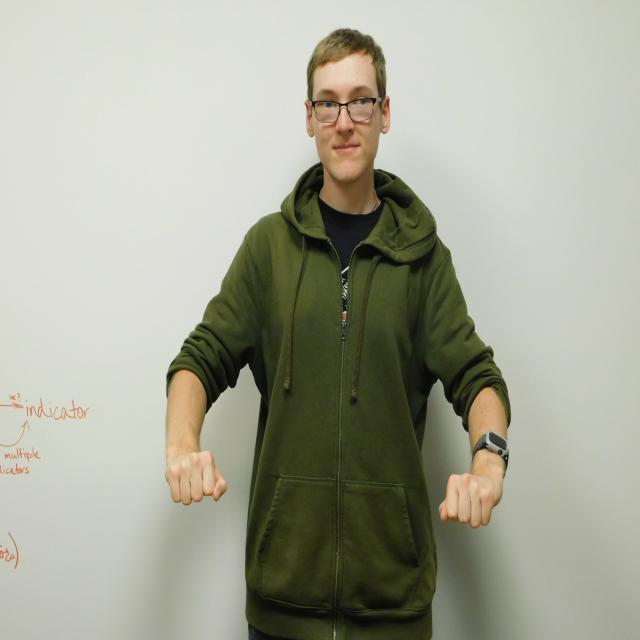can: (165, 450, 501, 530)
